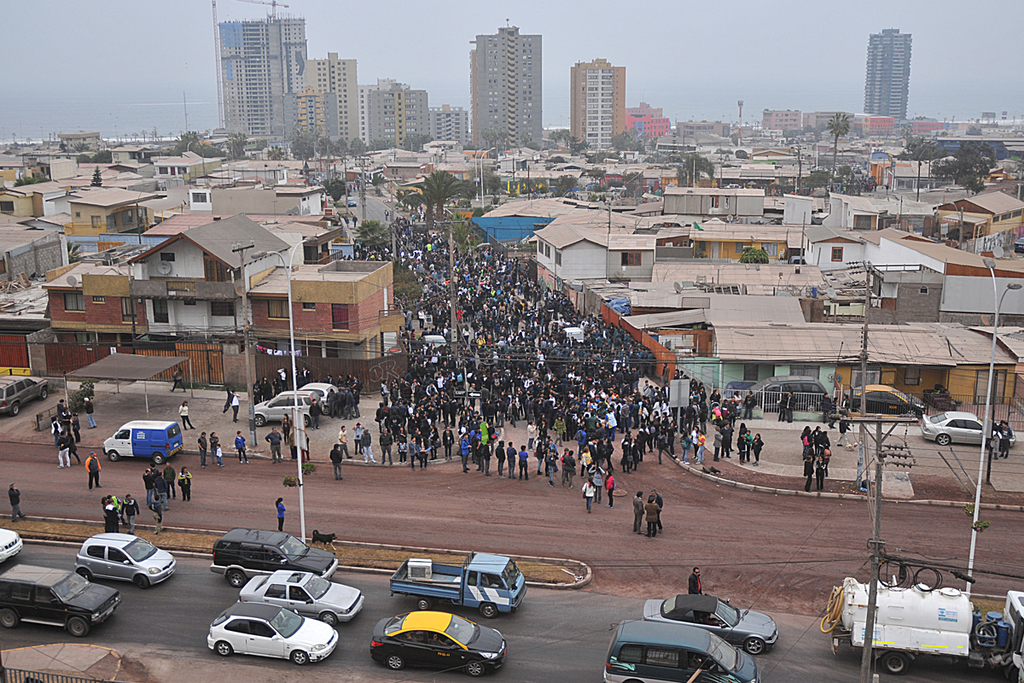Car: (0, 528, 781, 682), (740, 375, 830, 412), (919, 411, 1005, 445), (248, 388, 314, 428), (844, 383, 919, 414), (0, 373, 46, 416), (298, 380, 339, 407), (424, 335, 445, 346)
